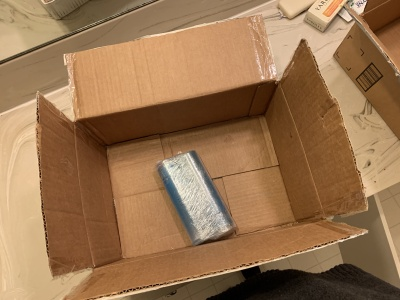innerbox: (84, 95, 307, 248)
outerbox: (44, 52, 352, 265)
product: (161, 149, 229, 246)
